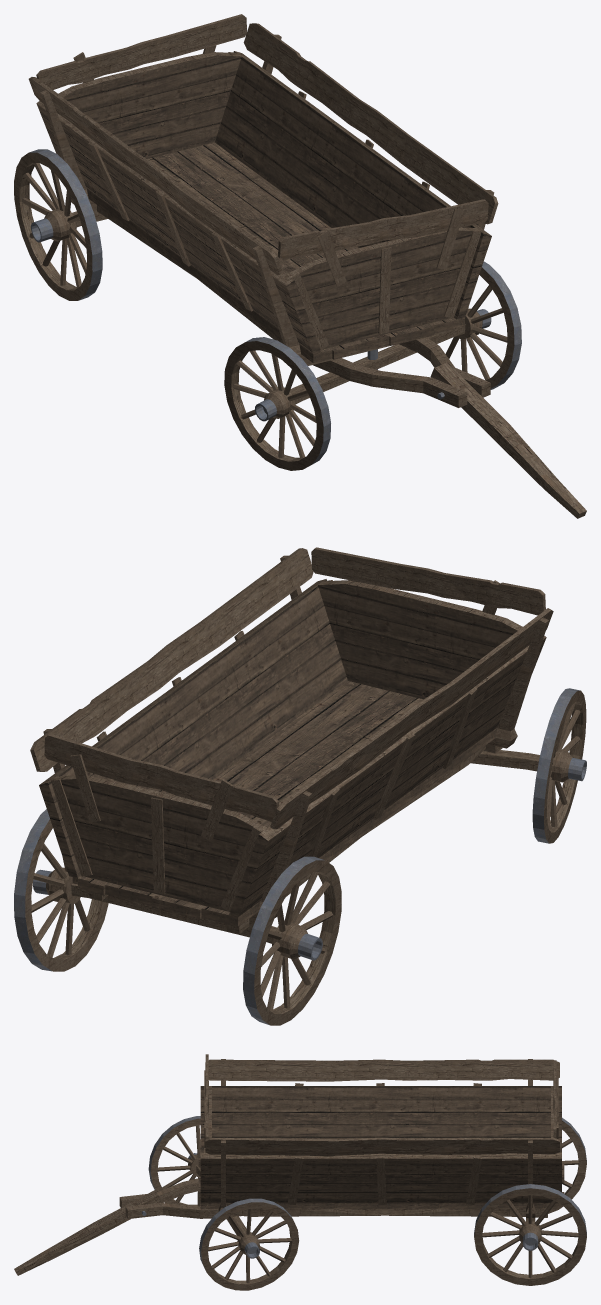
File: f1_haywaggon.dae
The picture shows the model from 3 angles, top to bottom: view 1: azimuth 30°, elevation 25°; view 2: azimuth 150°, elevation 25°; view 3: azimuth 270°, elevation 25°; orthographic projection. The views are drawn at different scales.
Parts seen in each view (by area): view 1: f1_haywaggon_Layer1; view 2: f1_haywaggon_Layer1; view 3: f1_haywaggon_Layer1.
Part boxes in pixels (x1=…): f1_haywaggon_Layer1: x1=14, y1=14, x2=586, y2=518; f1_haywaggon_Layer1: x1=14, y1=547, x2=586, y2=1025; f1_haywaggon_Layer1: x1=14, y1=1054, x2=586, y2=1290.
Bounding box in the file's own units: 1.98 × 1.58 × 5.07.
